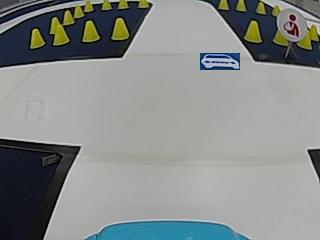cone: (244, 20, 263, 43), (81, 20, 100, 42), (111, 17, 129, 40), (53, 22, 69, 45), (29, 28, 45, 48), (273, 29, 288, 45), (298, 32, 311, 49), (63, 10, 74, 24), (101, 0, 112, 11), (117, 0, 129, 10), (74, 5, 84, 17), (256, 2, 266, 14), (218, 0, 229, 10), (236, 0, 246, 11), (137, 0, 149, 9), (84, 0, 93, 12), (271, 5, 280, 16)
patient: (277, 8, 306, 41)
